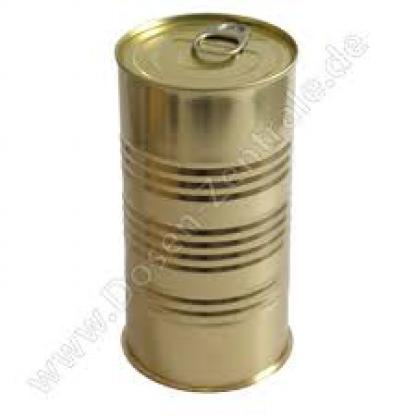METAL: (113, 13, 296, 390)
